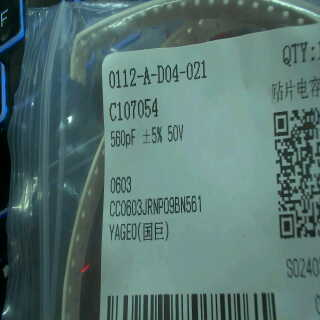560pF: (105, 128, 144, 151)
